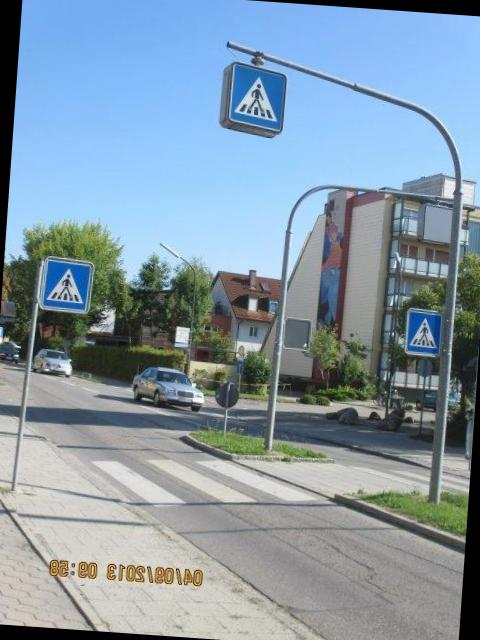crosswalk-sign: (219, 61, 290, 139), (38, 256, 97, 315), (405, 309, 444, 360)
